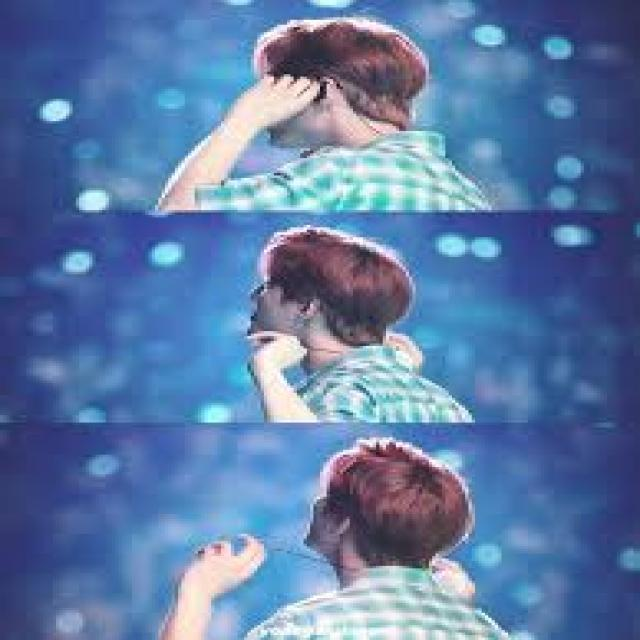earphone: (316, 74, 332, 112), (300, 295, 320, 324)
